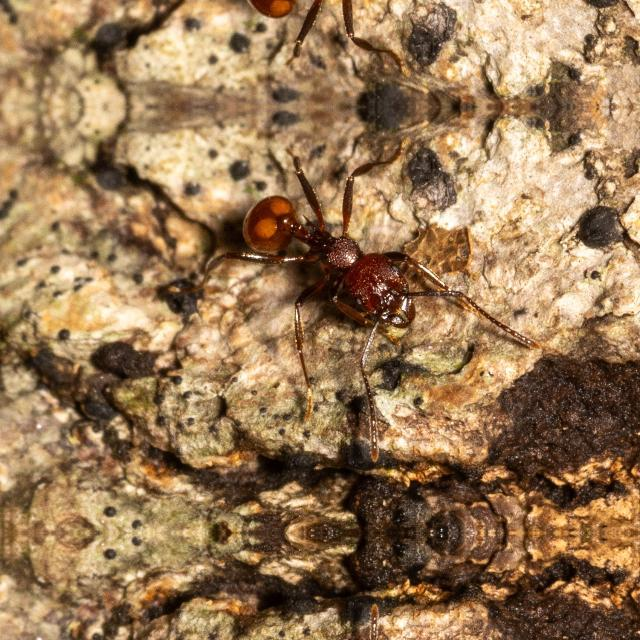Apheanogaster: (220, 181, 460, 345)
